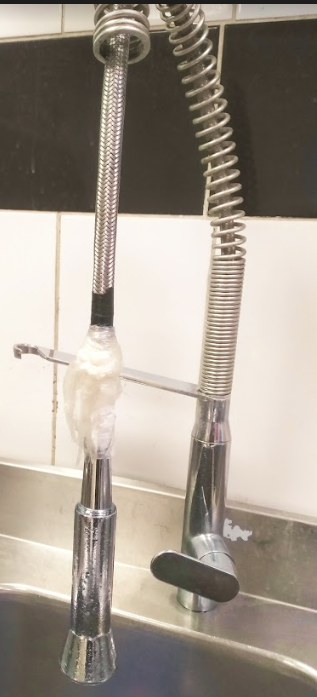Deck Faucet: (6, 5, 288, 690)
